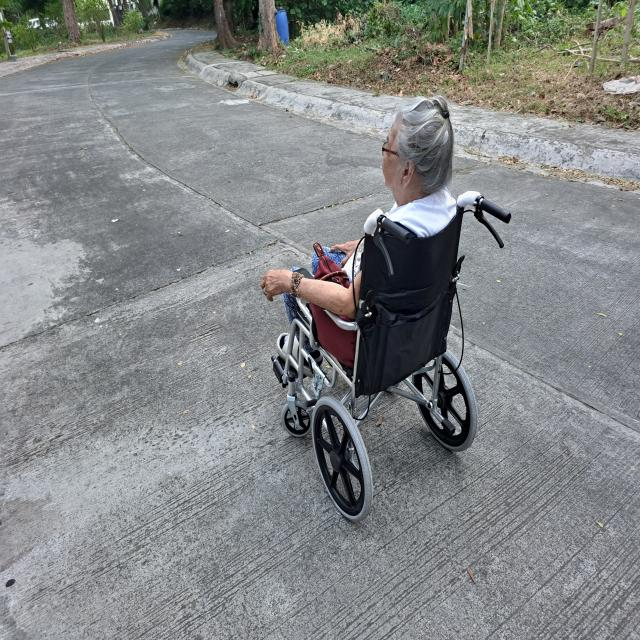wheelchairs: (264, 178, 526, 534)
